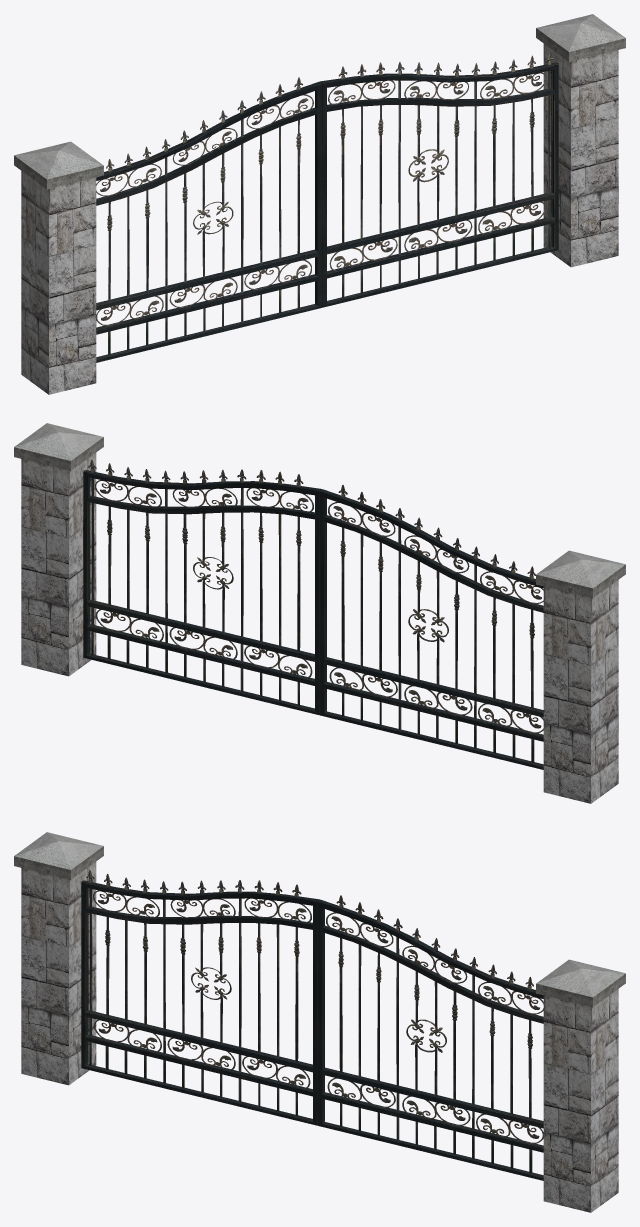
Rendered from Gate2A.fbx.
3 views of the same model, one above another, from view 1: azimuth 30°, elevation 25°; view 2: azimuth 150°, elevation 25°; view 3: azimuth 330°, elevation 25° (orthographic).
Visible parts, largest first — view 1: Gate2A, Gate2A-gate2, Gate2A-gate1; view 2: Gate2A, Gate2A-gate2, Gate2A-gate1; view 3: Gate2A, Gate2A-gate1, Gate2A-gate2.
Boxes of the visible parts, x1,y1,x2,y2 form: Gate2A: (14, 14, 625, 394); Gate2A-gate2: (320, 52, 558, 307); Gate2A-gate1: (96, 77, 321, 362); Gate2A: (14, 423, 625, 803); Gate2A-gate2: (83, 459, 321, 715); Gate2A-gate1: (320, 485, 543, 769); Gate2A: (14, 832, 625, 1212); Gate2A-gate1: (81, 870, 319, 1125); Gate2A-gate2: (318, 895, 543, 1180).
Bounding box in the file's own units: 610 × 251 × 60.
